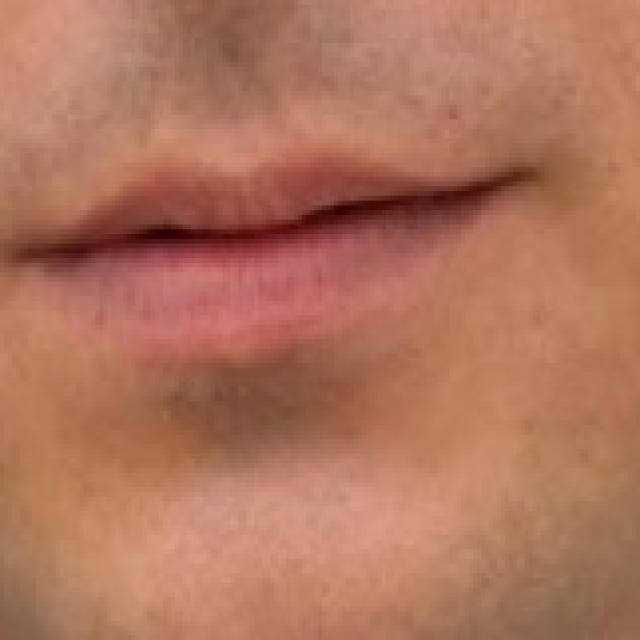closed-mouth: (8, 153, 537, 363)
